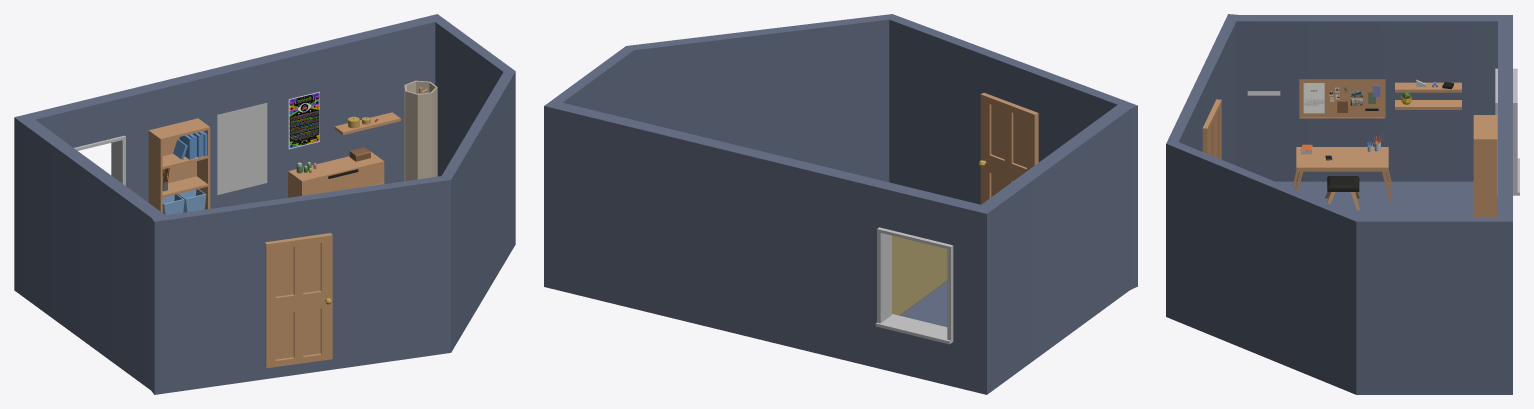
The picture shows the model from 3 angles, left to right: view 1: azimuth 30°, elevation 25°; view 2: azimuth 150°, elevation 25°; view 3: azimuth 270°, elevation 25°; orthographic projection. The views are drawn at different scales.
Parts seen in each view (by area): view 1: Walls, Door, MarciePoster, Book_Shelf, Shade, Nightstand.1, BonnarooPoster, Shelf_1, Window, BSBox.2; view 2: Walls, Door, Window (×2), Rug; view 3: Walls, Book_Shelf, Desk, PinBoard, Window, Door, Chair, Calendar, Shelf_2, Shelf_3.
Part boxes in pixels (<box>): Walls: <box>14,14,515,394</box>; Door: <box>265,233,332,368</box>; MarciePoster: <box>217,103,267,194</box>; Book_Shelf: <box>148,118,210,212</box>; Shade: <box>404,80,437,181</box>; Nightstand.1: <box>288,151,384,197</box>; BonnarooPoster: <box>288,91,319,149</box>; Shelf_1: <box>334,112,400,135</box>; Window: <box>74,135,125,185</box>; BSBox.2: <box>177,189,206,212</box>; Walls: <box>544,14,1137,394</box>; Door: <box>980,93,1038,204</box>; Window (×2): <box>875,227,953,344</box>; Rug: <box>892,235,947,315</box>; Walls: <box>1166,14,1512,394</box>; Book_Shelf: <box>1473,115,1497,216</box>; Desk: <box>1292,147,1392,201</box>; PinBoard: <box>1299,79,1385,118</box>; Window: <box>1495,68,1519,195</box>; Door: <box>1202,99,1221,159</box>; Chair: <box>1325,176,1359,210</box>; Calendar: <box>1303,83,1324,113</box>; Shelf_2: <box>1395,100,1461,109</box>; Shelf_3: <box>1395,82,1461,92</box>.
Size of the model in its own units: 103 by 40.01 by 74.02.
